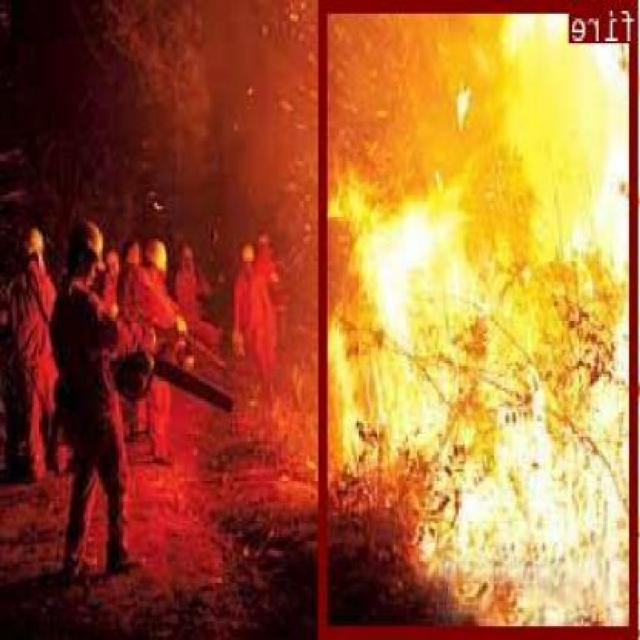Fire: (322, 0, 640, 634)
